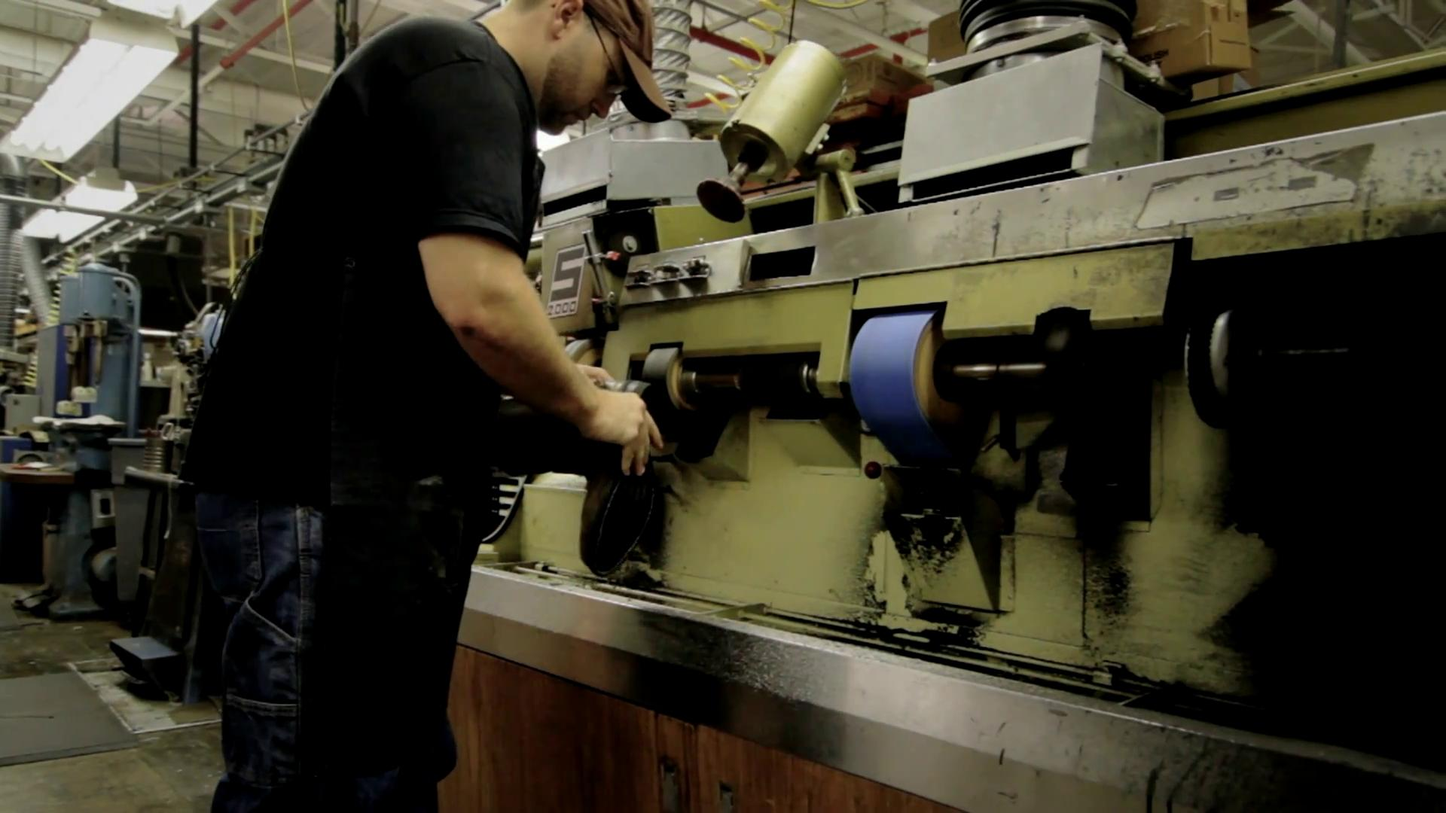victim: (175, 1, 669, 807)
